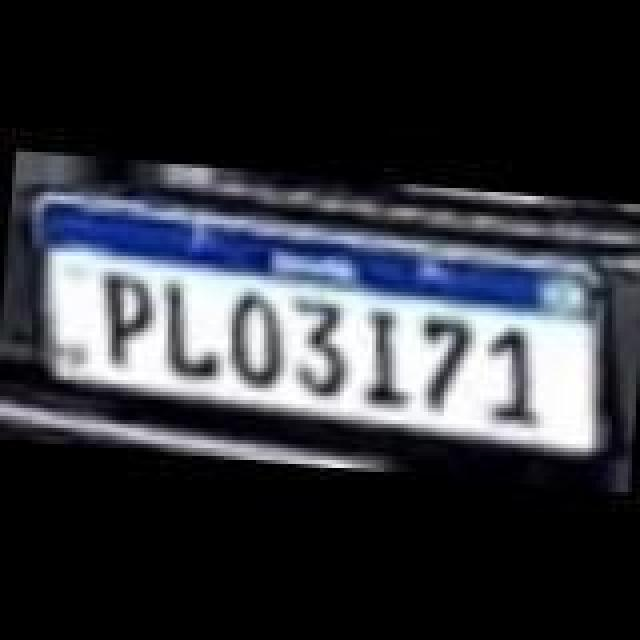1: (474, 318, 550, 426)
3: (278, 292, 354, 396)
7: (406, 306, 474, 414)
I: (348, 300, 420, 412)
L: (156, 274, 228, 382)
O: (222, 286, 290, 386)
P: (94, 270, 162, 370)
